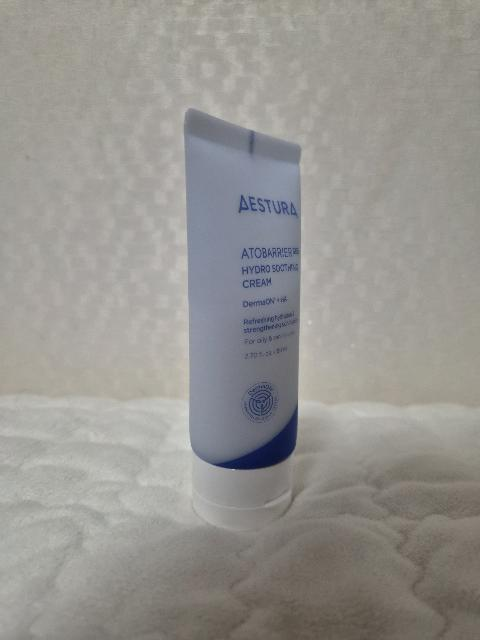handcream: (183, 108, 301, 532)
